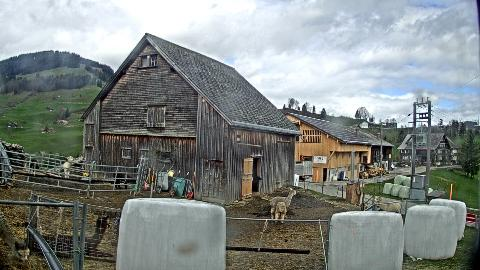car: (390, 162, 396, 172)
sheep: (38, 214, 112, 260), (0, 210, 30, 264), (269, 188, 297, 218), (112, 172, 138, 190), (274, 201, 286, 224), (63, 156, 73, 180), (252, 176, 260, 192), (252, 176, 254, 182)
